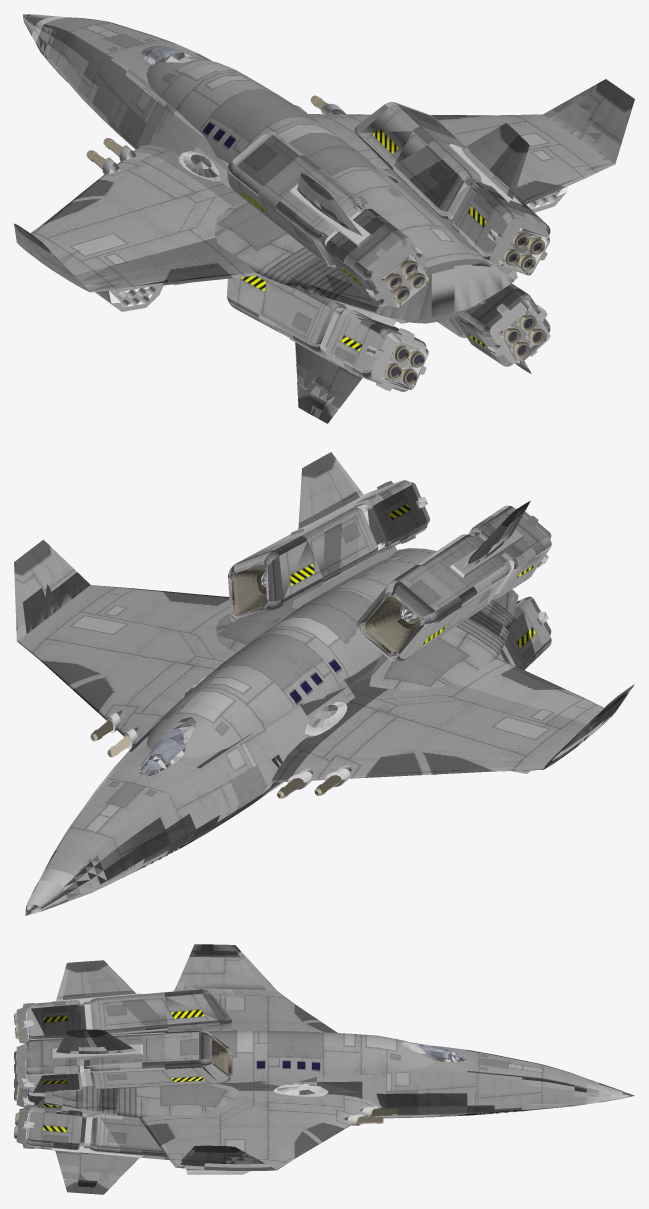
File: centurion.glb
The picture shows the model from 3 angles, top to bottom: view 1: azimuth 30°, elevation 25°; view 2: azimuth 150°, elevation 25°; view 3: azimuth 270°, elevation 25°; orthographic projection. The views are drawn at different scales.
Parts seen in each view (by area): view 1: centurion_specs; view 2: centurion_specs; view 3: centurion_specs.
Part boxes in pixels (<box>): centurion_specs: <box>14,14,634,423</box>; centurion_specs: <box>14,452,634,915</box>; centurion_specs: <box>14,944,634,1194</box>.
Size of the model in its own units: 556 by 210 by 721.
19 materials, 10 textured.
